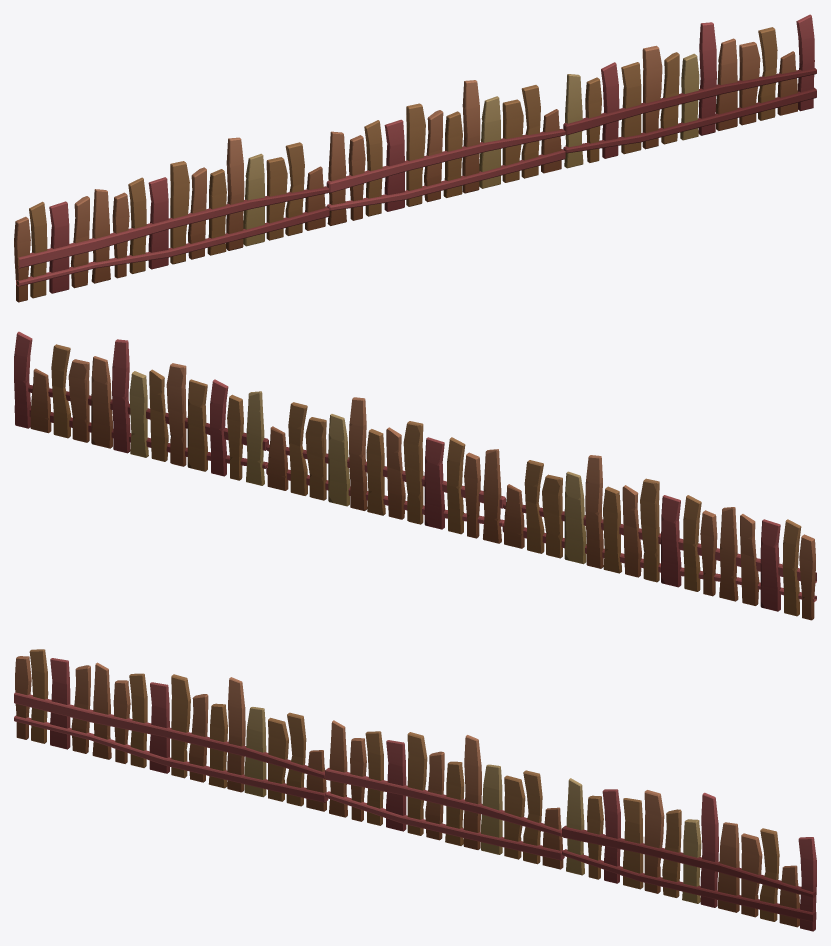
File: pagar8.fbx
3 views of the same model, one above another, from view 1: azimuth 30°, elevation 25°; view 2: azimuth 150°, elevation 25°; view 3: azimuth 330°, elevation 25° (orthographic).
Parts seen in each view (by area): view 1: Pagar fix.008; view 2: Pagar fix.008; view 3: Pagar fix.008.
Part boxes in pixels (x1,y1,x2,y2): Pagar fix.008: (14, 14, 816, 302); Pagar fix.008: (14, 331, 816, 620); Pagar fix.008: (14, 649, 816, 931).
Size of the model in its own units: 1413 by 188 by 15.52.
1 material, 1 textured.
